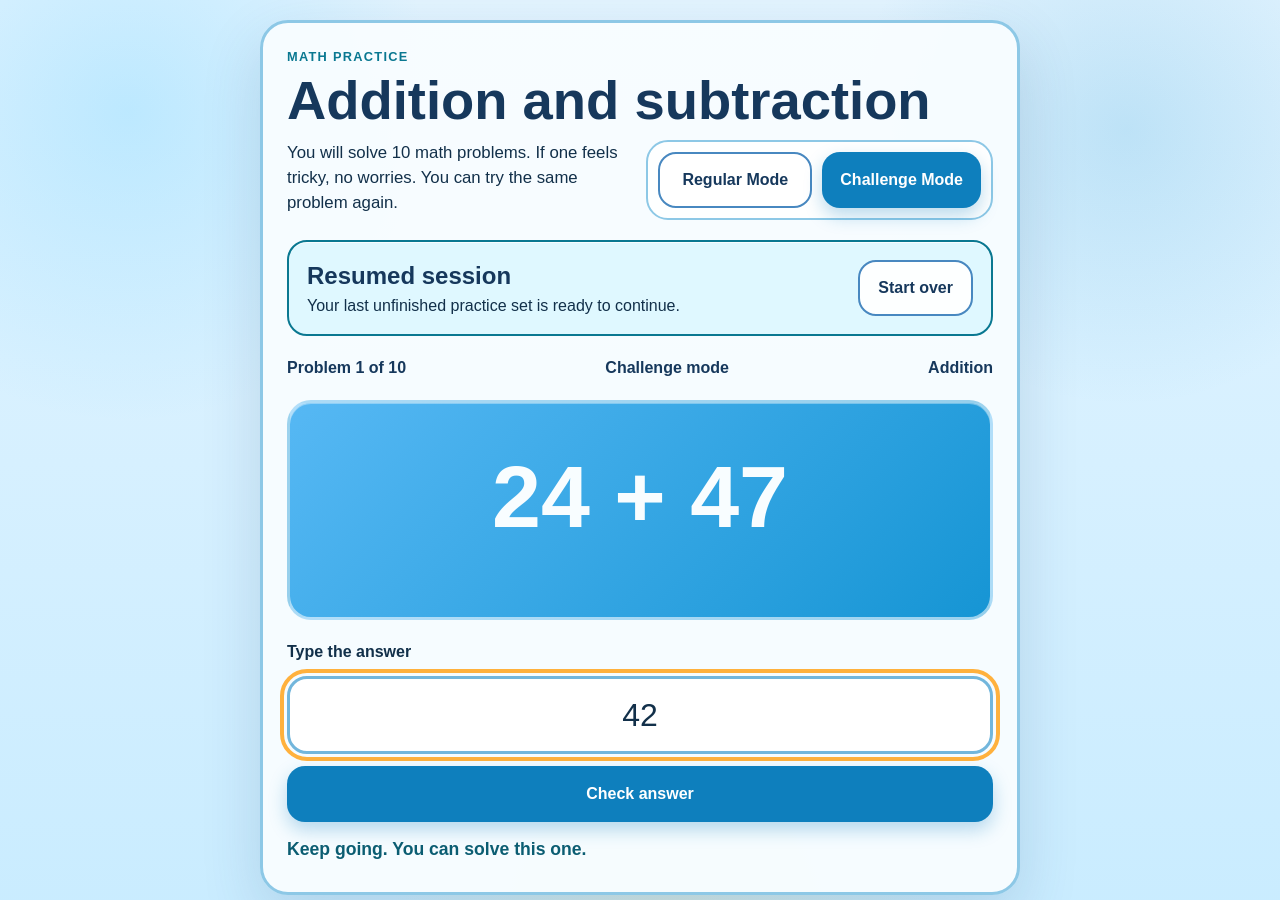
Scenario: App › restores an unfinished session from local storage and allows starting over
The image size is (1280, 900).
expect the heading "Resumed session" is shown: met, box [307,262,511,288]
expect the field showing "42" is shown: met, box [287,676,993,754]
Click the button "Start over": (916, 288) [858,260,973,316]
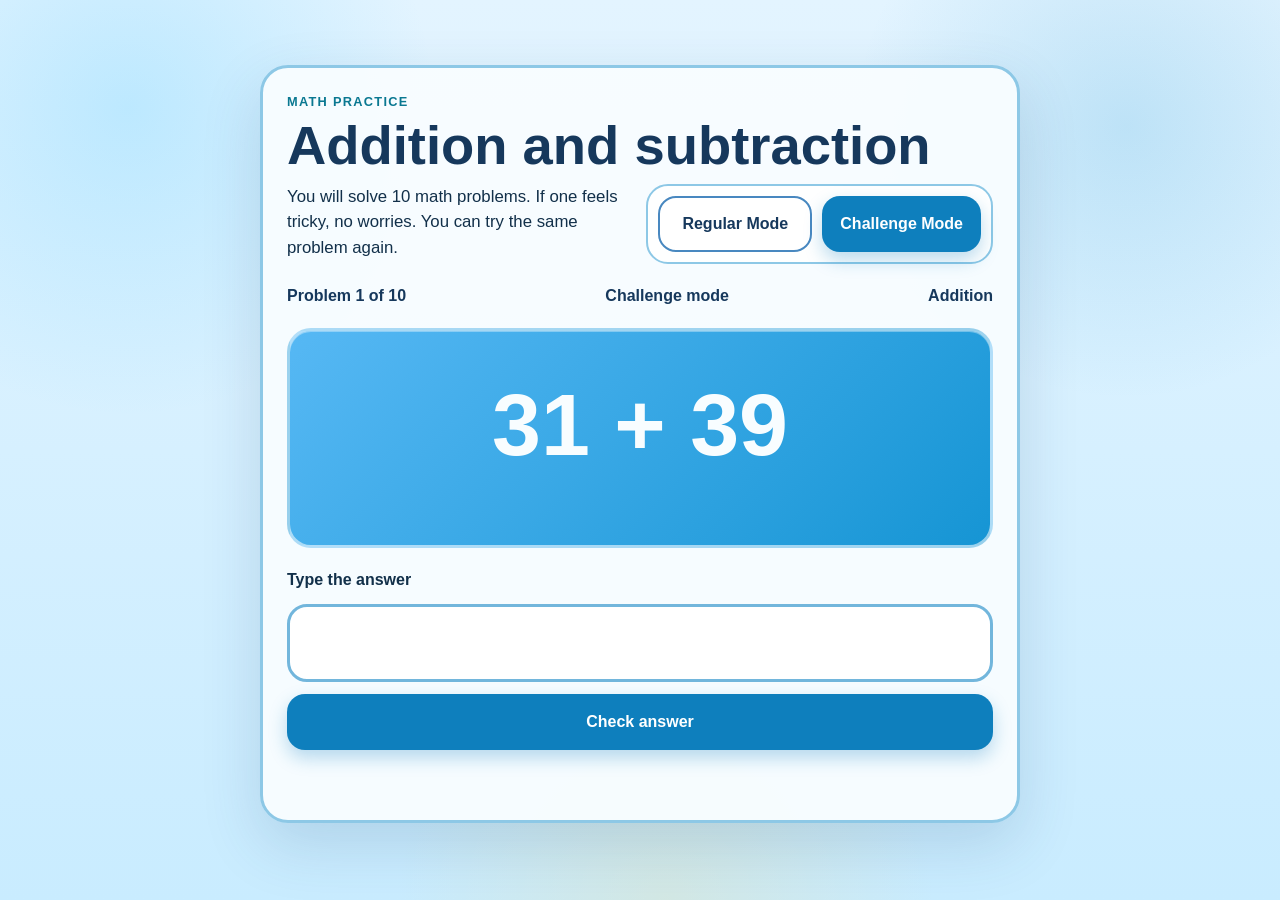
expect the heading "Resumed session" is gone: met
expect the field labelled "Type the answer" is empty: met, box [287,604,993,682]
